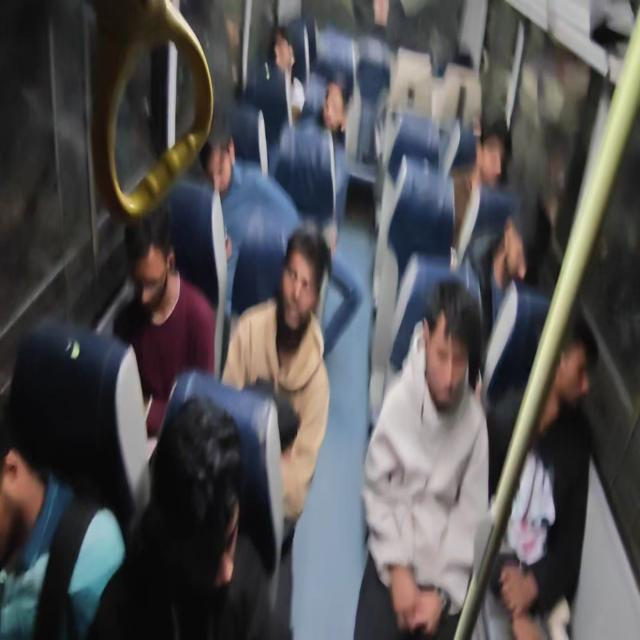person: (0, 395, 134, 640), (168, 378, 294, 614), (68, 159, 192, 351), (399, 300, 480, 464), (266, 230, 337, 362), (531, 300, 600, 431), (476, 199, 536, 300), (201, 112, 248, 211), (264, 21, 308, 113), (313, 50, 357, 126), (470, 138, 506, 186), (443, 23, 469, 88)
